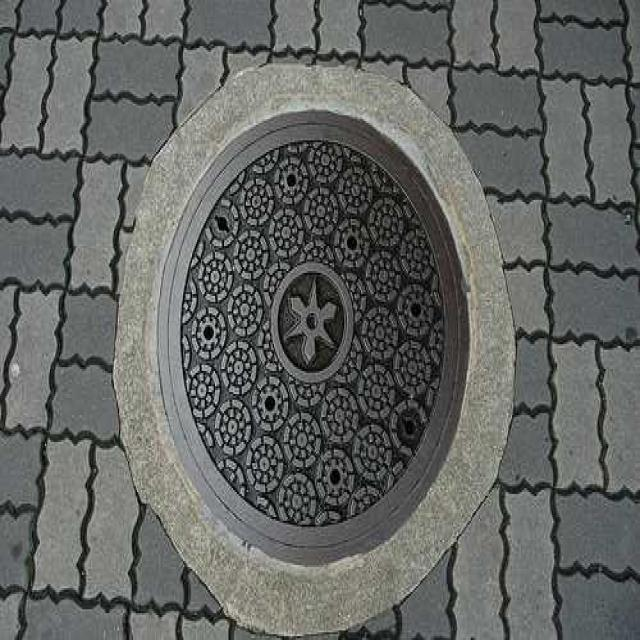manhole: (156, 111, 469, 566)
